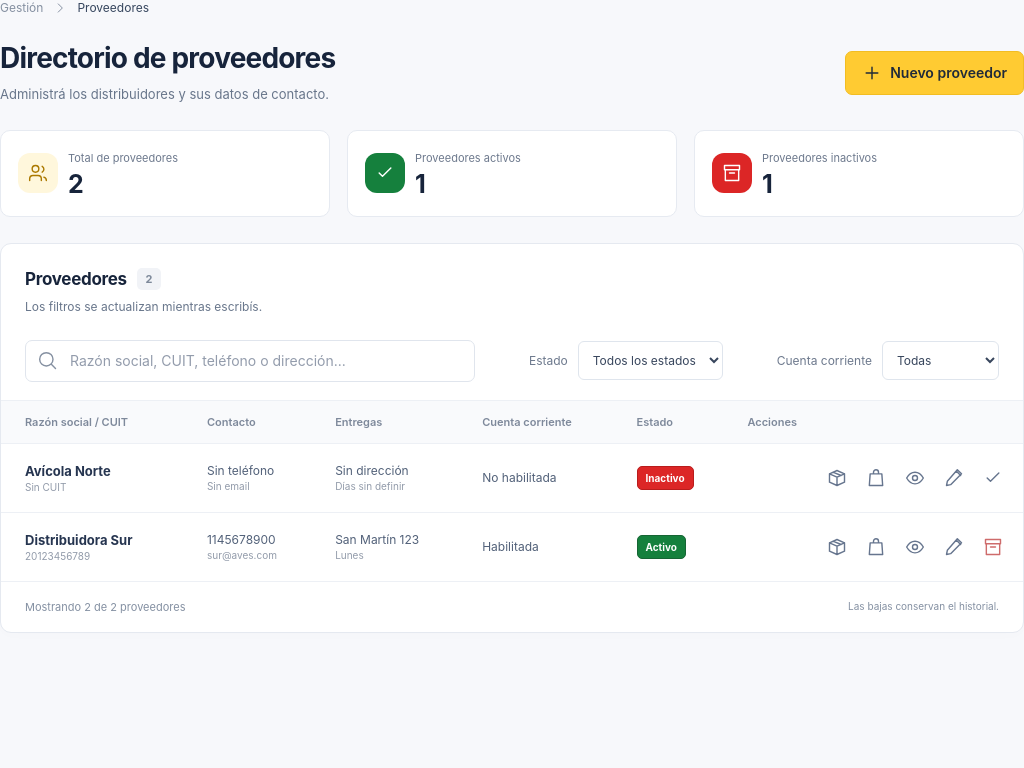
it: Directorio de proveedores › consulta el detalle y confirma la baja y reactivación conservando los datos
The width and height of the screenshot is (1024, 768).
Click the button named "Ver Distribuidora Sur". click: [915, 547]
box: [898,530,932,564]
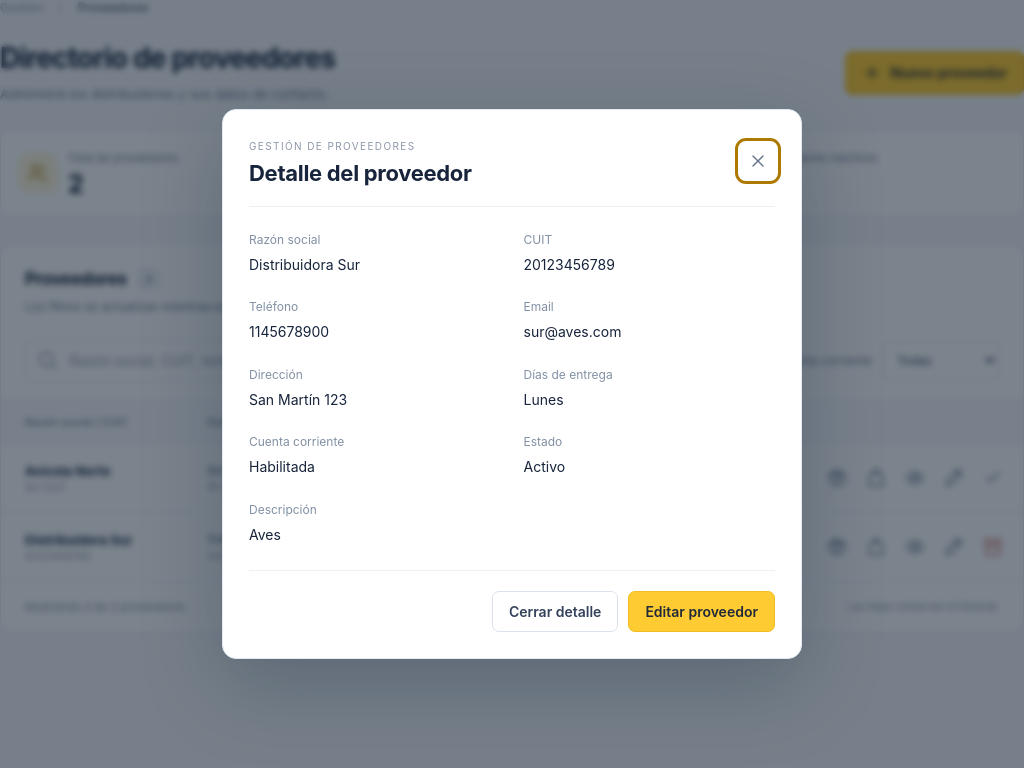
Now the text "San Martín 123" is shown, box [249,391,347,408]
Click the button "Cerrar detalle". click: [555, 612]
box: [492,591,618,632]
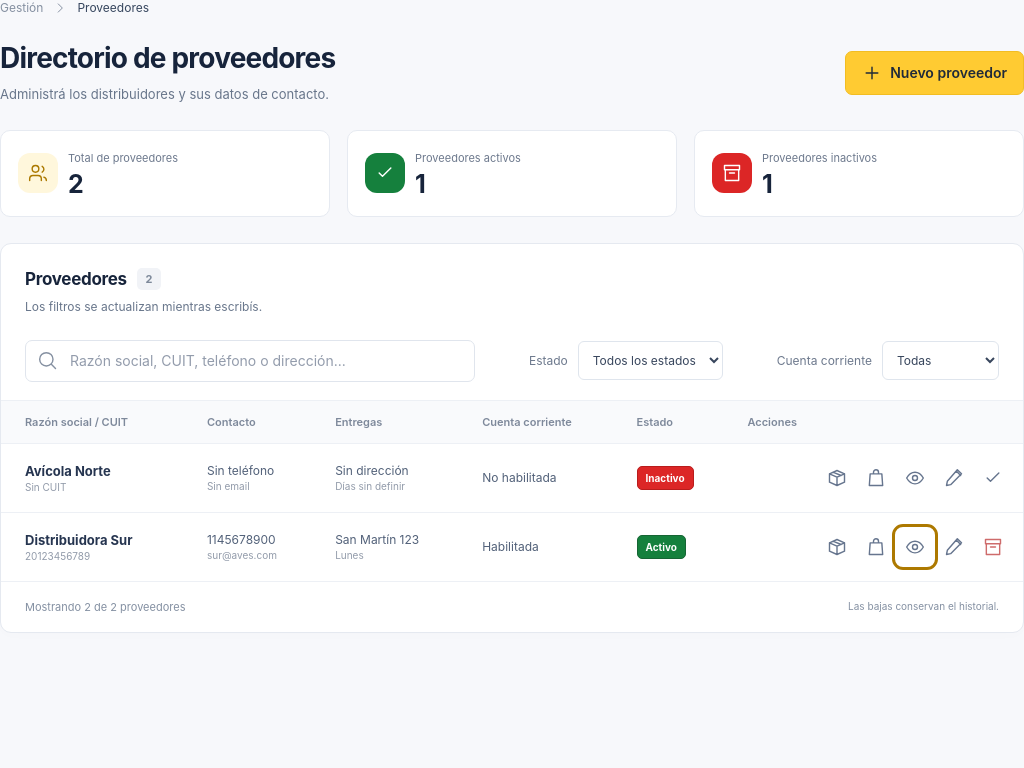
Click the button named "Dar de baja Distribuidora Sur". click: [993, 547]
box: [976,530,1010,564]
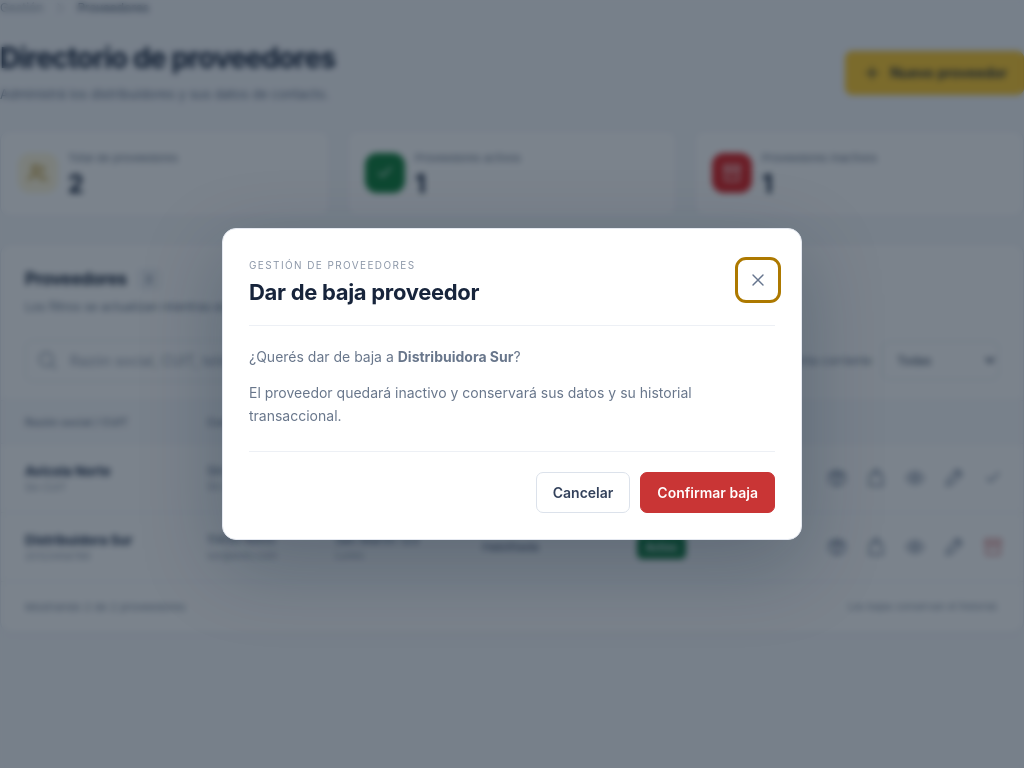
Click the button "Confirmar baja". click: [708, 493]
box: [640,472,775,513]
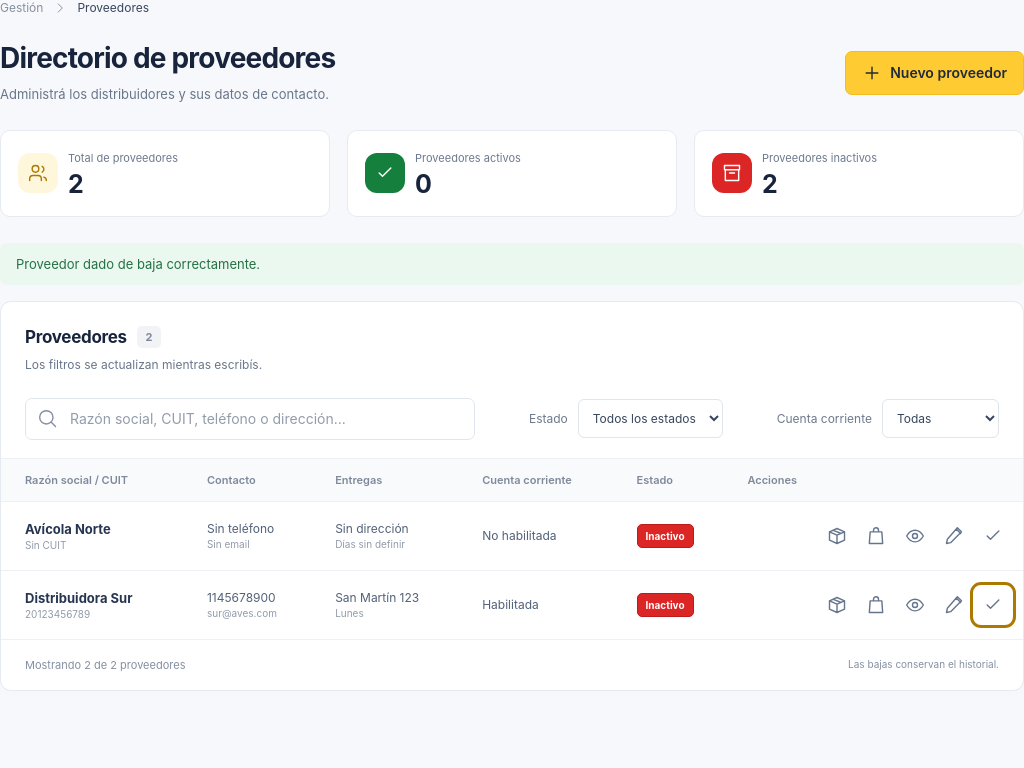
Now the text "Proveedor dado de baja correctamente." is shown, box [0,243,1023,285]
Click the button named "Reactivar Distribuidora Sur". click: [993, 605]
box: [976,588,1010,622]
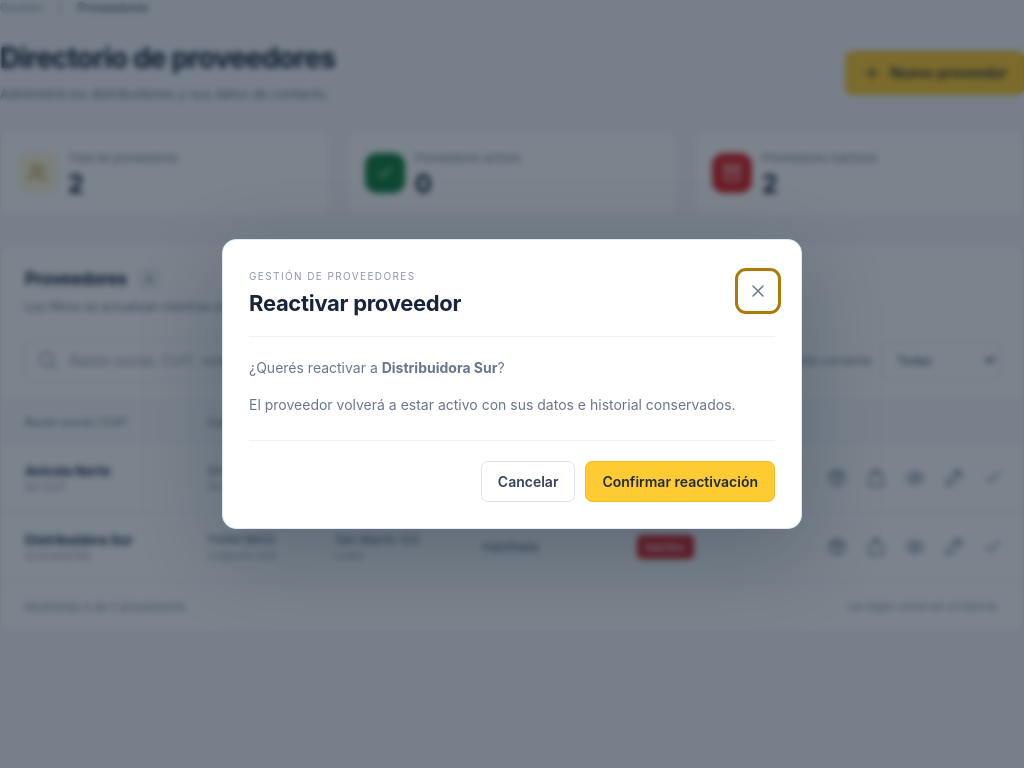
Click the button "Confirmar reactivación". click: [680, 481]
box: [586,461,775,502]
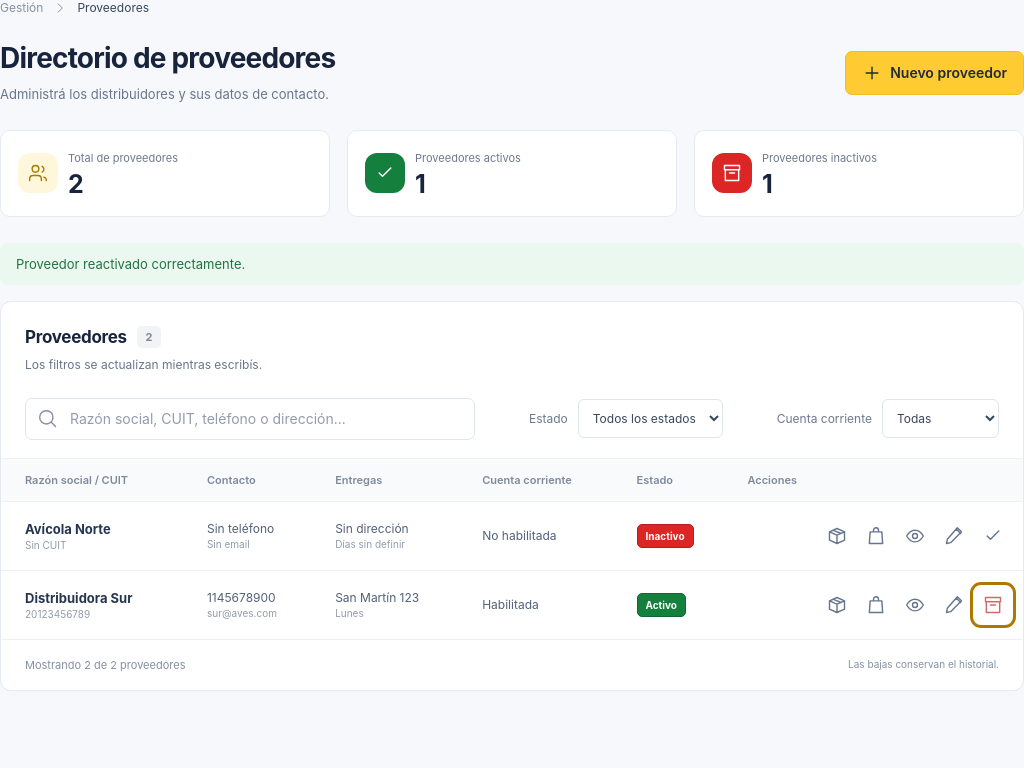
Now the text "Proveedor reactivado correctamente." is shown, box [0,243,1023,285]
